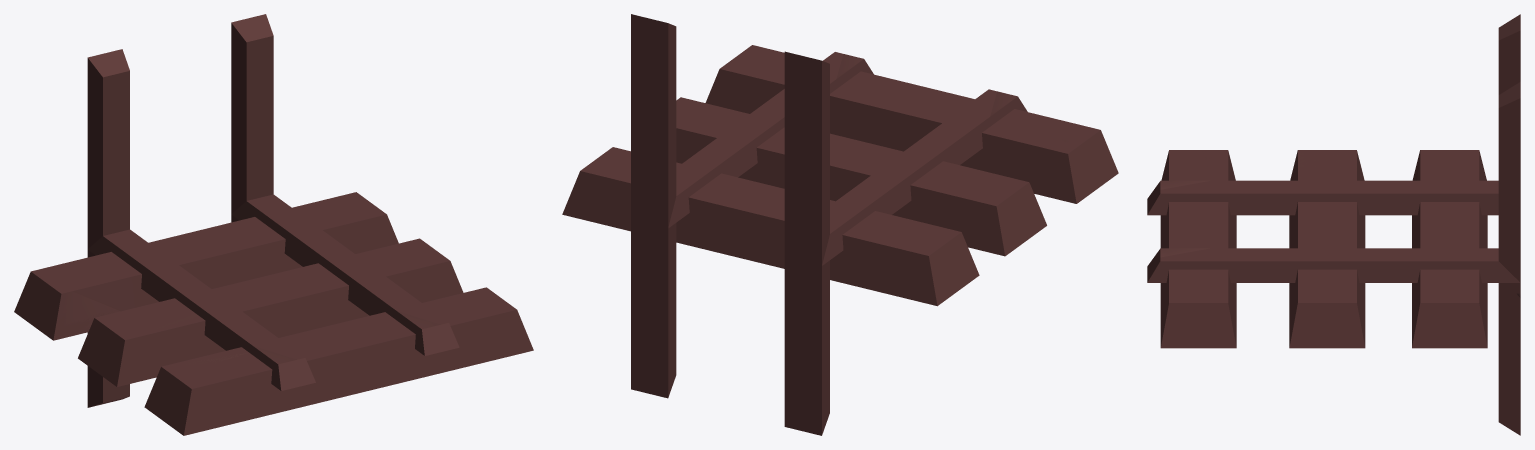
File: BarricadeWShatter.fbx
3 renders of one model, left to right at view 1: azimuth 30°, elevation 25°; view 2: azimuth 150°, elevation 25°; view 3: azimuth 270°, elevation 25°, orthographic. The views are drawn at different scales.
Visible parts, largest first — view 1: BarricadeNormal, shard3, shard2, shard15, shard13, shard9, shard22, shard16 (×2), shard17 (×2), shard4, shard28, shard26 (+10 smaller); view 2: BarricadeNormal, shard2, shard29, shard22, shard12, shard3, shard16 (×2), shard26, shard9, shard17 (×2), shard28, shard11 (+13 smaller); view 3: BarricadeNormal, shard16 (×2), shard17 (×2), shard18 (×2), shard22, shard3, shard19 (×2), shard24, shard2, shard20 (×2), shard27, shard4 (+6 smaller).
Part boxes in pixels (box(x1,y1,x2,y2)): BarricadeNormal: box(53, 23, 533, 435); shard3: box(202, 192, 398, 278); shard2: box(14, 229, 214, 340); shard15: box(177, 331, 416, 405); shard13: box(156, 353, 410, 434); shard9: box(117, 314, 311, 386); shard22: box(231, 14, 273, 182); shard16 (×2): box(168, 244, 398, 334); shard17 (×2): box(123, 216, 340, 300); shard4: box(131, 236, 253, 307); shard28: box(87, 139, 129, 246); shard26: box(87, 54, 129, 185); BarricadeNormal: box(562, 14, 1118, 434); shard2: box(736, 203, 979, 306); shard29: box(784, 277, 829, 435); shard22: box(631, 14, 676, 192); shard12: box(879, 110, 1084, 203); shard3: box(576, 147, 766, 243); shard16 (×2): box(720, 90, 959, 201); shard26: box(784, 57, 829, 197); shard9: box(850, 179, 1004, 256); shard17 (×2): box(680, 136, 908, 224); shard28: box(784, 137, 829, 260); shard11: box(705, 45, 837, 135); BarricadeNormal: box(1147, 17, 1520, 365); shard16 (×2): box(1255, 180, 1371, 282); shard17 (×2): box(1359, 180, 1450, 282); shard18 (×2): box(1159, 180, 1267, 273); shard22: box(1498, 82, 1520, 260); shard3: box(1412, 230, 1480, 338); shard19 (×2): box(1440, 180, 1519, 282); shard24: box(1498, 293, 1520, 435); shard2: box(1412, 150, 1486, 231); shard20 (×2): box(1147, 180, 1275, 282); shard27: box(1498, 20, 1520, 94); shard4: box(1412, 202, 1460, 248).
Bounding box in the file's own units: 6.43 × 6.15 × 6.16.
